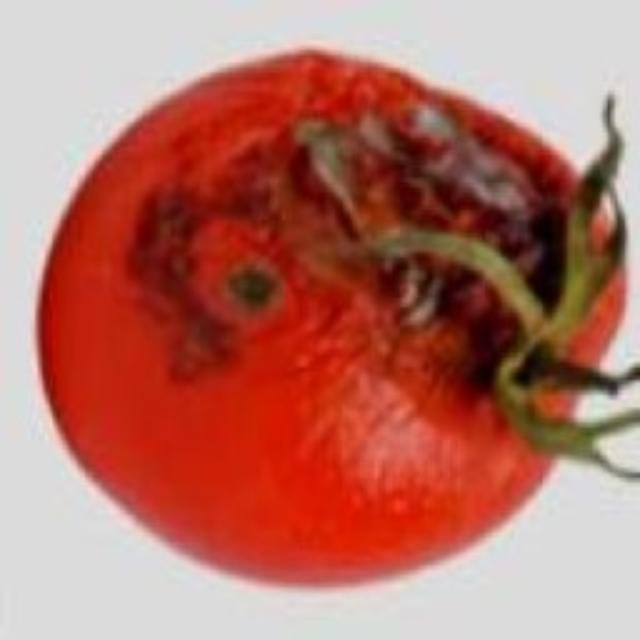defect: (41, 41, 630, 597)
